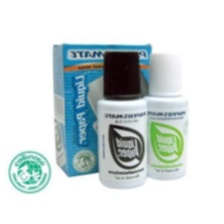book: (50, 40, 155, 179)
correction_fluid: (94, 48, 151, 191), (139, 49, 192, 182)
